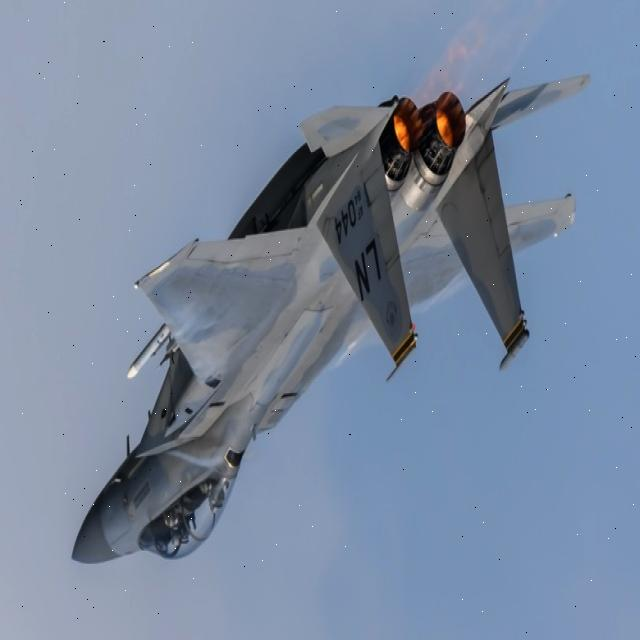F15: (65, 54, 593, 596)
